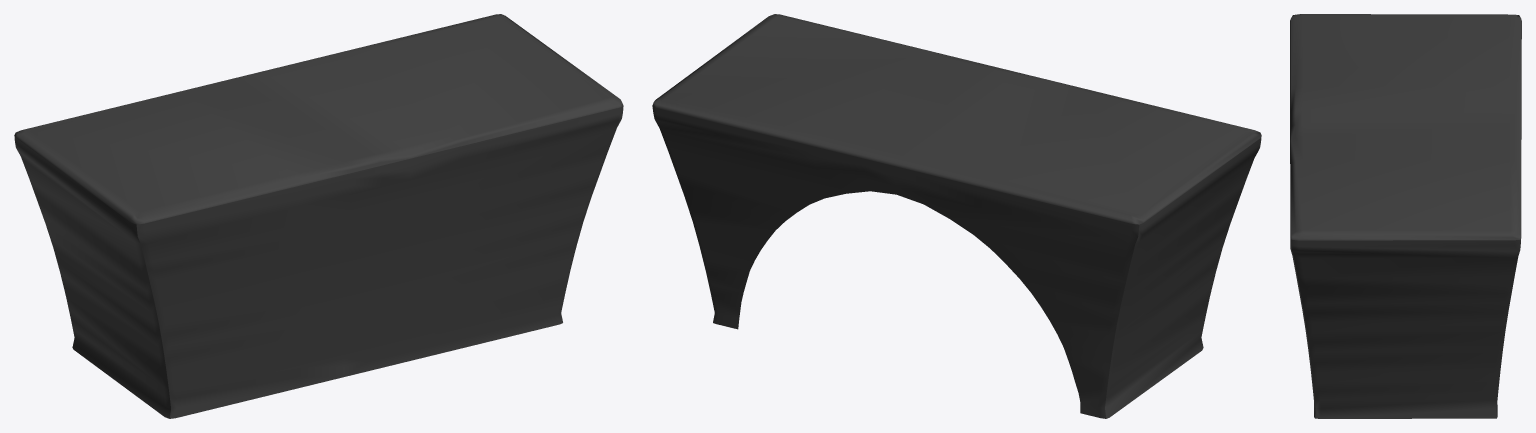
File: multi-6ft-3.glb
3 views of the same model, side by side, from view 1: azimuth 30°, elevation 25°; view 2: azimuth 150°, elevation 25°; view 3: azimuth 270°, elevation 25° (orthographic). The views are drawn at different scales.
Parts seen in each view (by area): view 1: geometry_0; view 2: geometry_0; view 3: geometry_0.
Boxes of the visible parts, bbox=[...] form: geometry_0: bbox=[14, 14, 623, 418]; geometry_0: bbox=[652, 14, 1261, 418]; geometry_0: bbox=[1290, 14, 1521, 418].
Size of the model in its own units: 1.82 by 0.7812 by 0.7954.
1 material, 1 textured.
